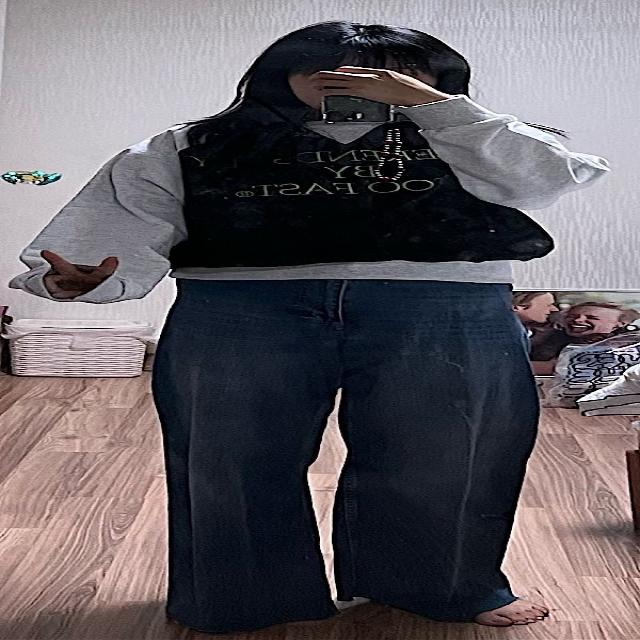denimpants: (152, 274, 543, 637)
mtm: (12, 94, 610, 310)
